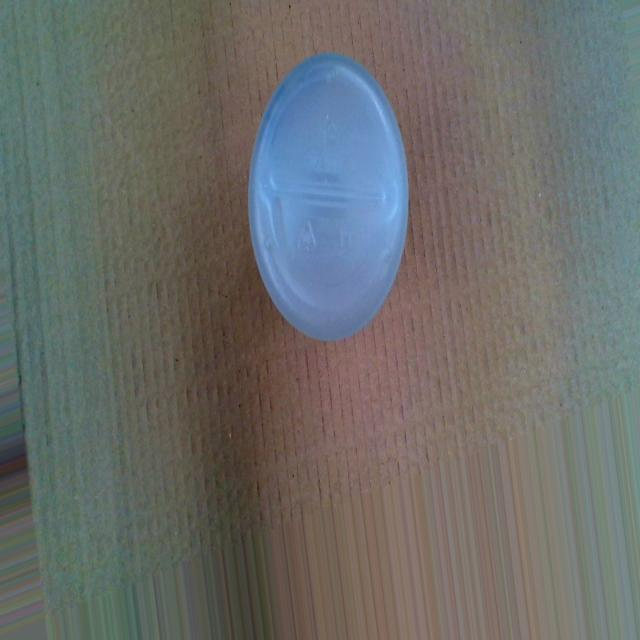bottle: (245, 47, 413, 344)
